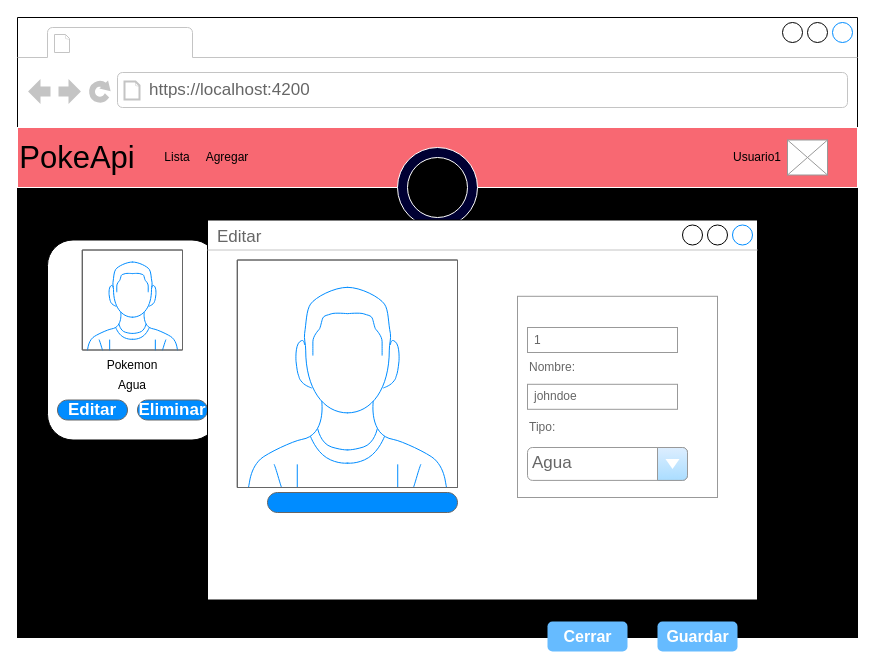
This 875x669 diagram has some shape labels left out. The centre of each missing label's shape, as x and y in pixels:
"Numero Pokedex" belongs at (577,317).
"Poke Api" belongs at (132,42).
"Seleccionar Imagen" belongs at (362,502).
